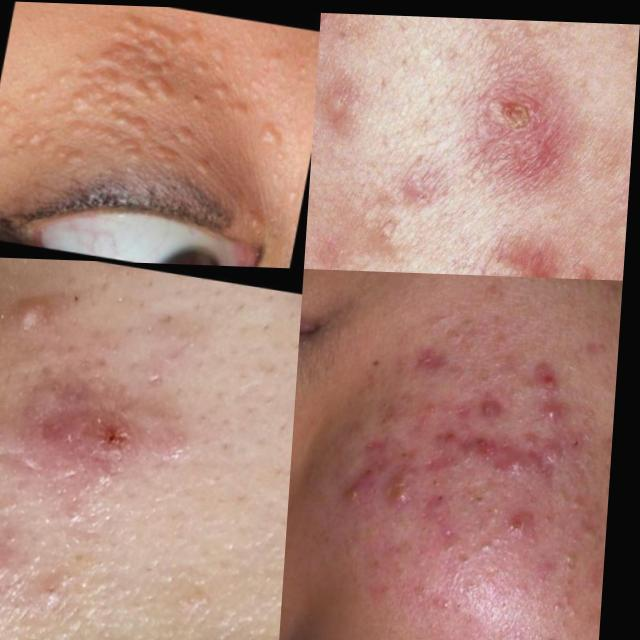7: (278, 170, 308, 213)
8: (14, 376, 184, 498), (5, 278, 65, 339), (43, 554, 86, 605), (476, 377, 512, 423)
9: (343, 465, 379, 506), (532, 353, 566, 393), (503, 441, 537, 479), (540, 393, 572, 428)
blackheads: (437, 416, 508, 468), (390, 447, 430, 521), (412, 339, 456, 378)
pustules: (456, 225, 606, 274)
